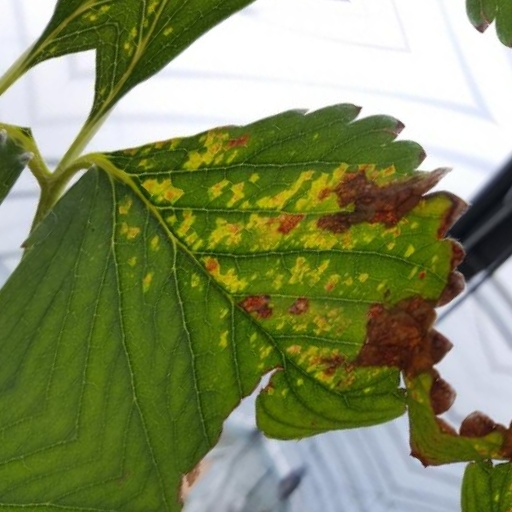Angular Leafspot: (77, 58, 511, 511)
